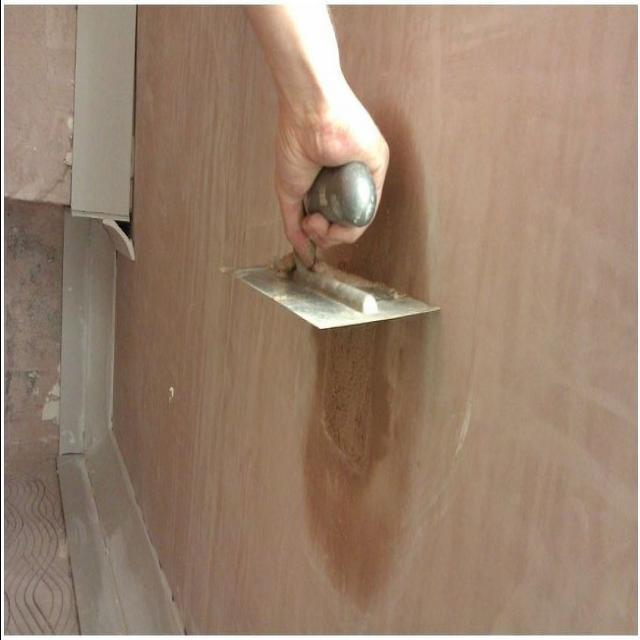Crack: (325, 323, 382, 460)
